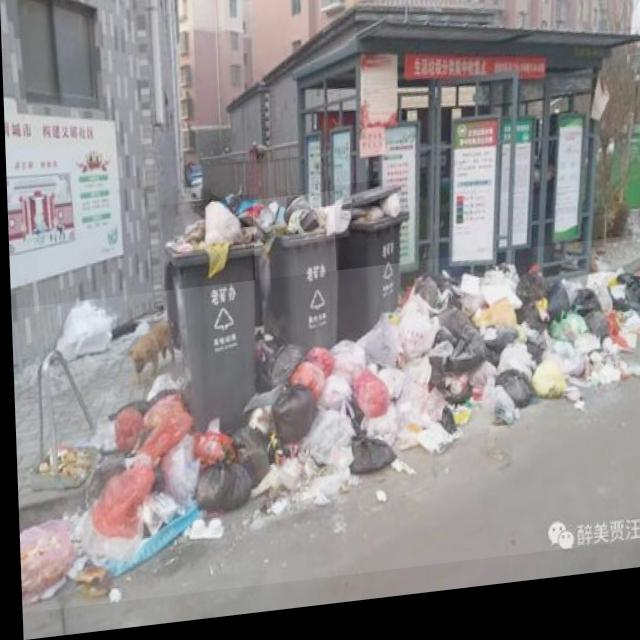garbage: (9, 250, 640, 613)
overflow: (160, 200, 263, 441), (251, 197, 348, 361), (332, 187, 410, 350)
